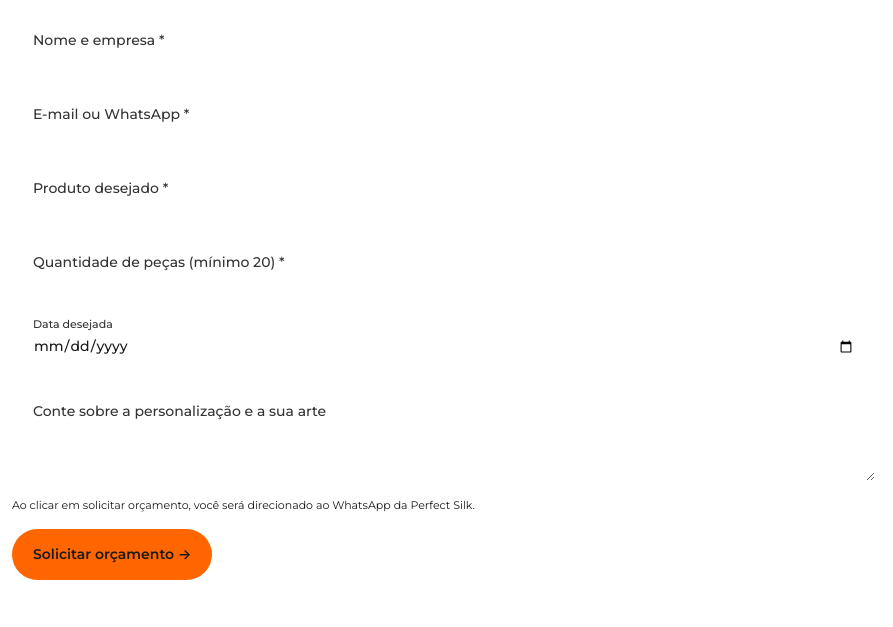
QuoteForm › rejects a non numeric quantity
This screenshot has width=893, height=627.
In the field labelled "Nome e empresa *": (444,41) [13,13,875,69], type "Maria Souza"
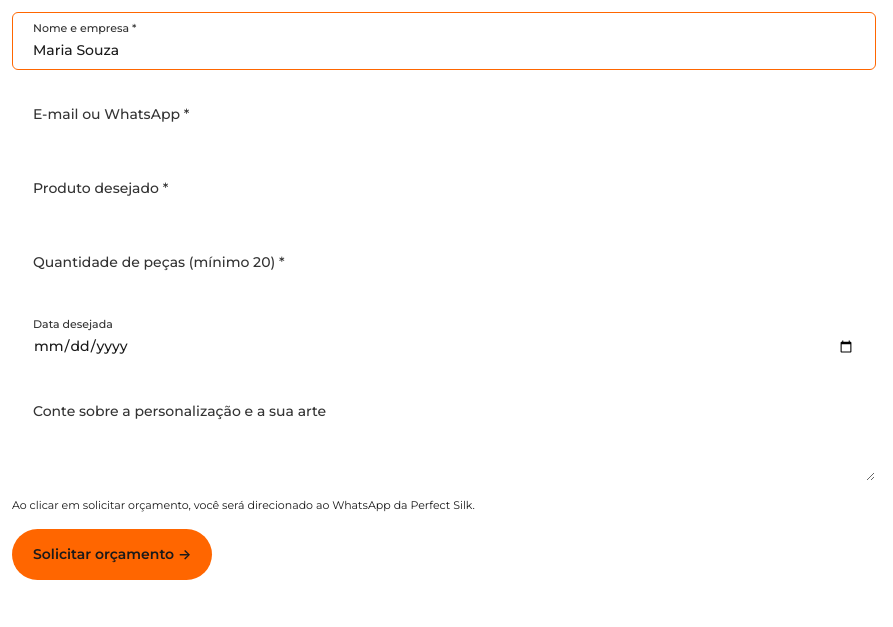
In the field labelled "E-mail ou WhatsApp *": (444,115) [13,87,875,143], type "91999990000"
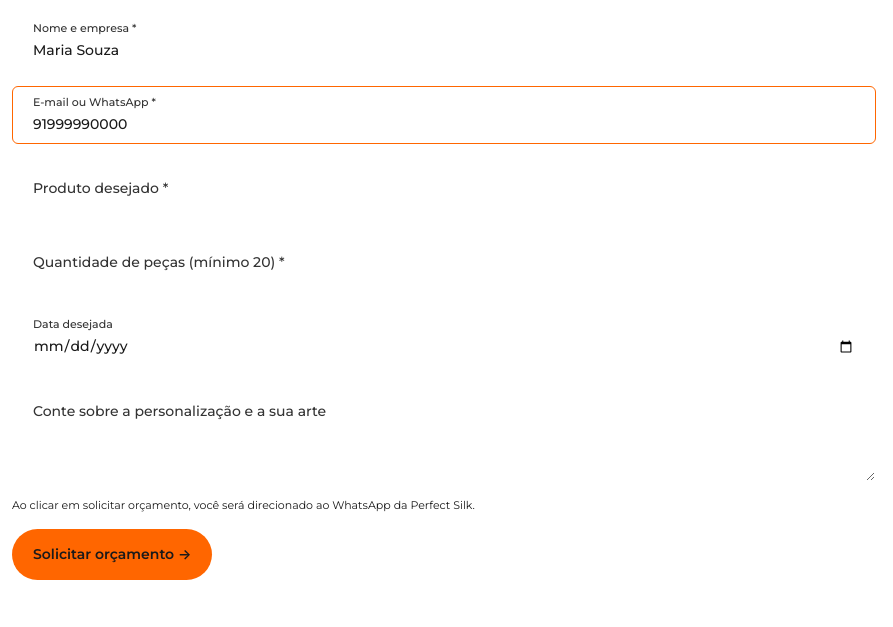
In the field labelled "Produto desejado *": (444,189) [13,161,875,217], type "Camisetas"
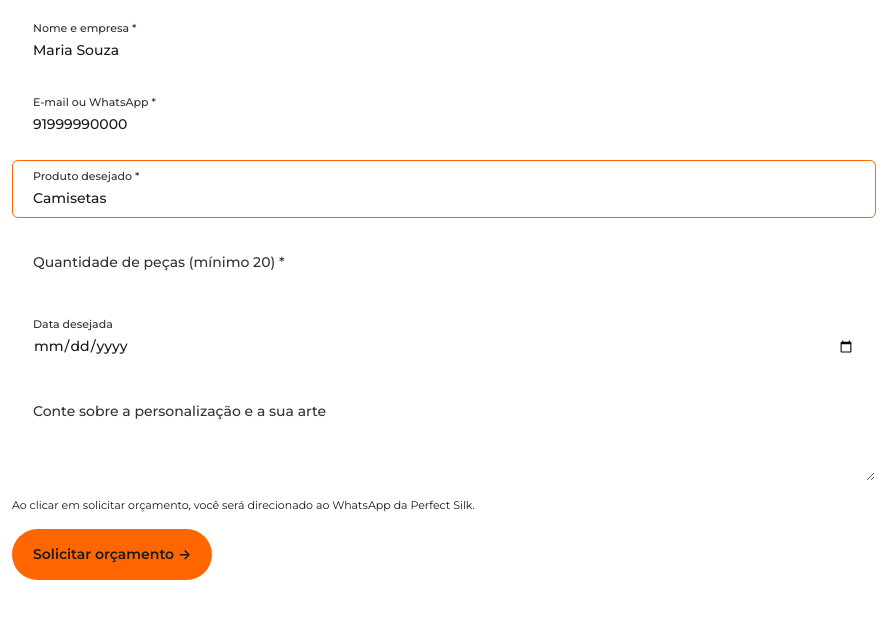
In the field labelled "Quantidade de peças (mínimo 20) *": (444,263) [13,235,875,291], type "vinte"
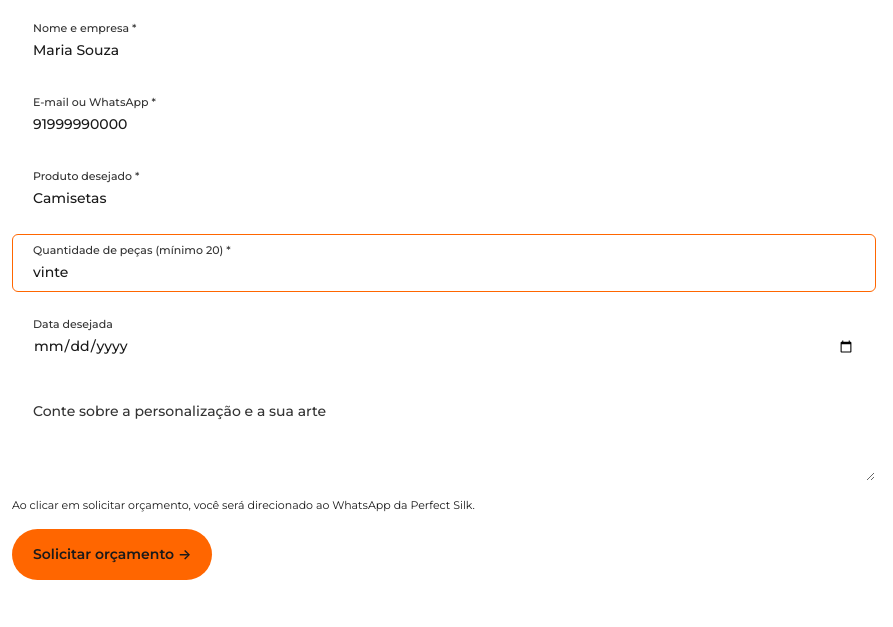
In the text box labelled "Conte sobre a personalização e a sua arte": (444,432) [13,384,875,481], type "Arte pronta"
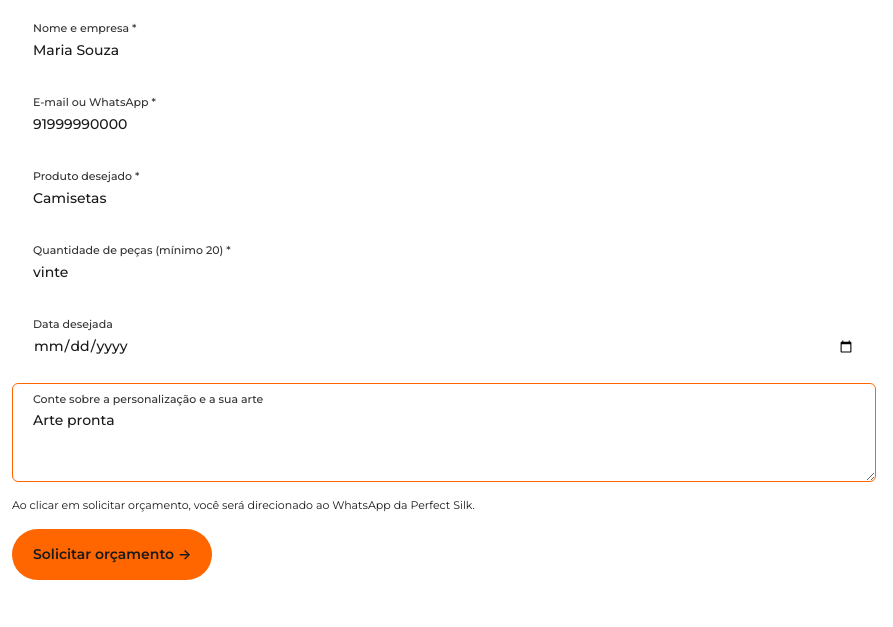
Click the button "Solicitar orçamento →": (112,554) [12,529,212,580]
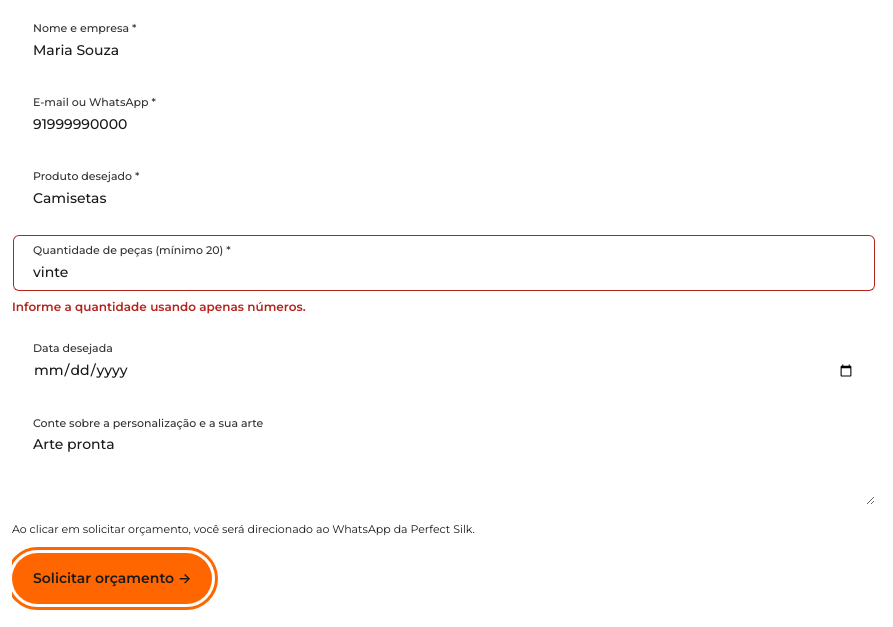
Expected: the text "Informe a quantidade usando apenas números." is shown, [12,299,306,314]
